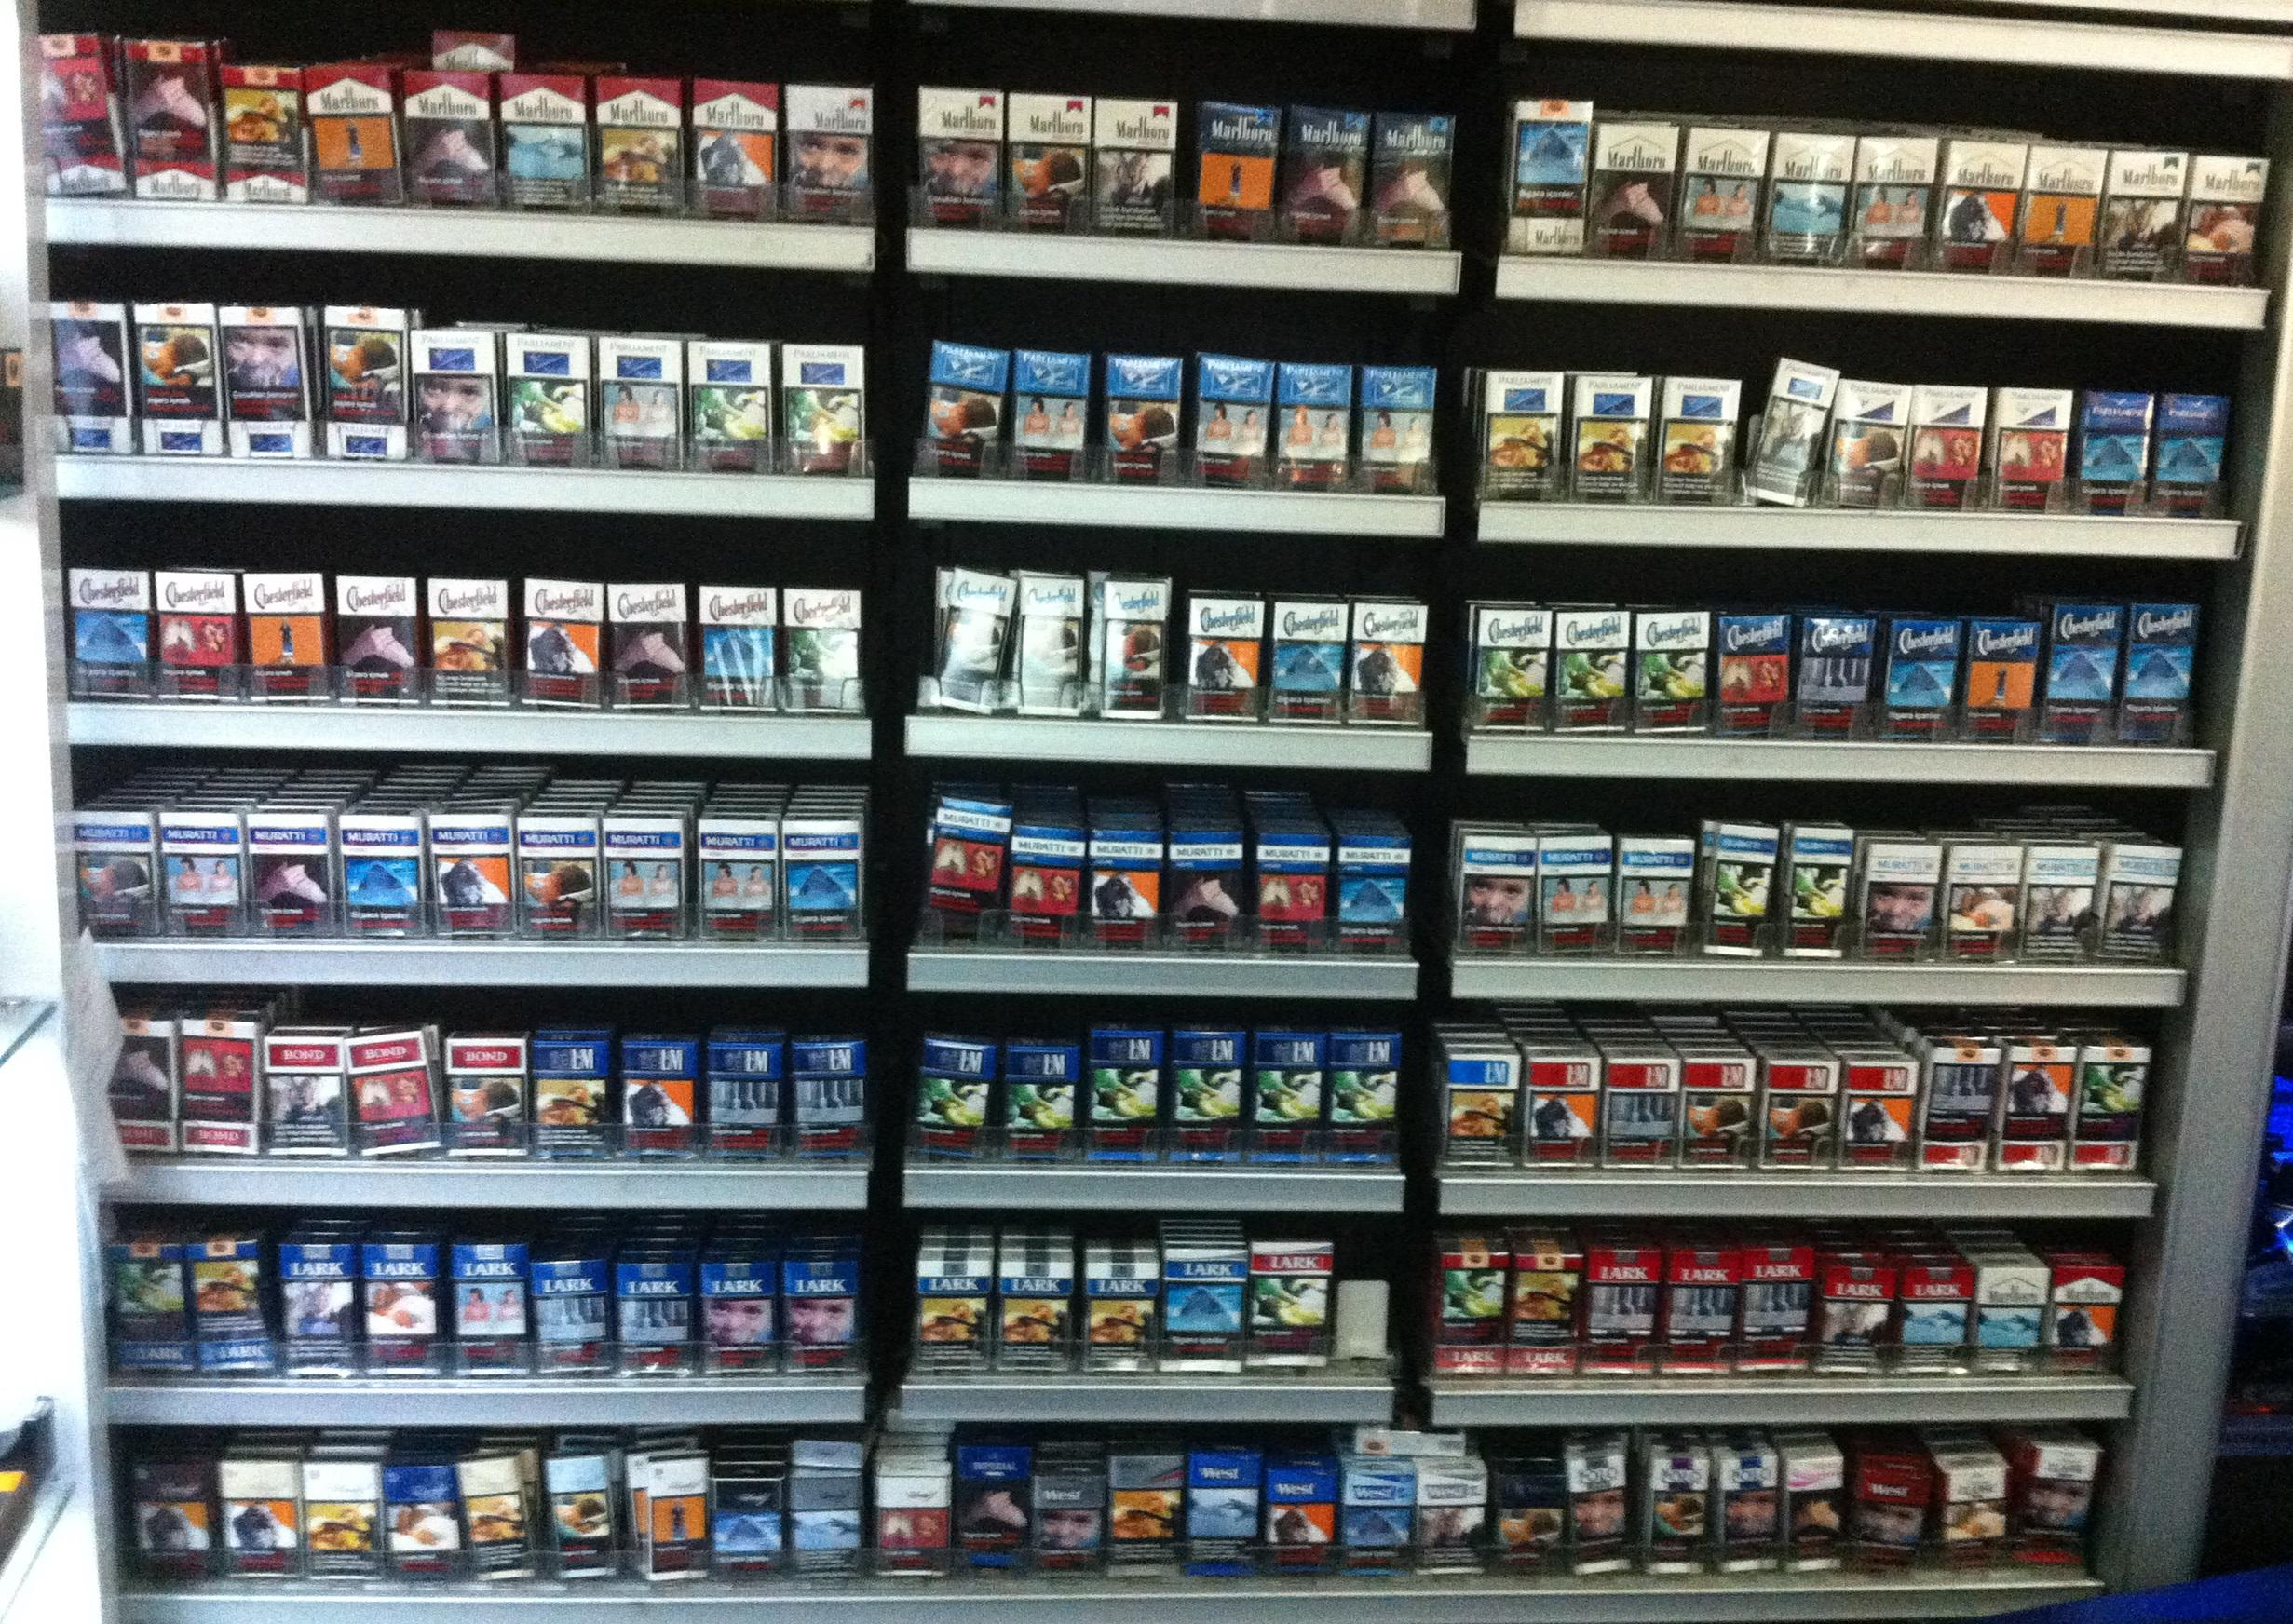product: (315, 295, 411, 471), (128, 292, 225, 466), (225, 292, 322, 466), (299, 60, 404, 216), (392, 69, 497, 225), (488, 65, 594, 221), (582, 72, 687, 228), (780, 79, 884, 236), (684, 79, 787, 236), (46, 295, 135, 471), (128, 30, 218, 202), (30, 26, 119, 199), (1502, 86, 1588, 262), (1267, 86, 1365, 239), (993, 83, 1089, 236), (1089, 90, 1186, 243), (1186, 86, 1283, 239), (239, 801, 336, 954), (329, 805, 425, 958), (415, 801, 511, 954), (504, 808, 601, 961), (594, 805, 691, 958), (684, 805, 780, 958), (768, 798, 864, 951), (910, 76, 1007, 228), (1369, 95, 1465, 246), (2008, 135, 2105, 285), (2101, 139, 2198, 288), (1465, 359, 1562, 508), (1559, 355, 1655, 504), (1648, 362, 1745, 511), (153, 559, 251, 705), (60, 559, 158, 705), (771, 578, 870, 724), (1928, 128, 2024, 276), (2170, 132, 2267, 279), (235, 559, 332, 705), (508, 575, 604, 721), (687, 575, 784, 721), (594, 329, 691, 475), (684, 325, 780, 471), (768, 336, 864, 482), (332, 571, 429, 715), (422, 571, 518, 715), (597, 571, 694, 715), (221, 49, 302, 216), (1588, 112, 1678, 262), (501, 325, 590, 475), (1841, 128, 1931, 276), (1003, 559, 1089, 712), (917, 568, 1003, 721), (1675, 116, 1762, 265), (1768, 123, 1855, 272), (339, 1028, 438, 1160), (153, 808, 246, 947), (408, 318, 497, 462), (1089, 571, 1174, 724), (1465, 589, 1552, 738), (1495, 1234, 1581, 1383), (1546, 592, 1632, 742), (1622, 592, 1708, 742), (1752, 352, 1838, 501), (1782, 592, 1868, 742), (1826, 369, 1912, 518), (1871, 601, 1957, 750), (1961, 601, 2047, 750), (2038, 585, 2124, 735), (2068, 385, 2154, 534), (255, 1028, 351, 1160), (691, 1028, 787, 1160), (777, 1025, 873, 1156), (1715, 598, 1801, 745), (1905, 378, 1991, 526), (1994, 381, 2080, 529), (2105, 598, 2191, 745), (2154, 381, 2240, 529), (172, 1007, 255, 1160), (1432, 1241, 1516, 1390), (438, 1037, 534, 1167), (515, 1033, 611, 1164), (604, 1033, 701, 1164), (206, 1446, 295, 1584), (295, 1443, 385, 1580), (378, 1450, 467, 1587), (455, 1446, 545, 1584), (538, 1450, 627, 1587), (627, 1439, 717, 1577), (1007, 336, 1093, 478), (1353, 359, 1439, 501), (921, 332, 1007, 475), (1659, 1244, 1745, 1387), (69, 808, 158, 944), (1100, 352, 1186, 492), (1193, 355, 1279, 496), (1581, 1241, 1666, 1383), (1738, 1241, 1822, 1383), (1942, 831, 2028, 970), (2091, 831, 2177, 970), (1276, 355, 1360, 496), (1696, 821, 1782, 958), (1855, 824, 1942, 961), (1908, 1033, 1994, 1171), (1978, 1040, 2065, 1178), (2012, 828, 2098, 965), (2065, 1040, 2151, 1178), (112, 1234, 195, 1376), (1771, 821, 1855, 958), (195, 1234, 276, 1376), (281, 1237, 362, 1380), (351, 1237, 432, 1380), (445, 1234, 525, 1376), (1000, 1028, 1089, 1156), (1067, 1248, 1156, 1376), (1077, 1028, 1167, 1156), (1174, 589, 1267, 712), (1256, 598, 1349, 721), (1342, 601, 1436, 724), (987, 1253, 1077, 1380), (996, 821, 1086, 947), (1074, 824, 1163, 951), (1153, 1021, 1242, 1148), (1156, 1244, 1246, 1371), (1163, 828, 1253, 954), (1246, 1237, 1335, 1364), (1249, 1025, 1339, 1151), (1320, 1025, 1409, 1151), (1323, 835, 1413, 961), (907, 1267, 996, 1394), (910, 1033, 1000, 1160), (1450, 828, 1536, 958), (1529, 828, 1615, 958), (1242, 831, 1330, 958), (780, 1446, 861, 1584), (128, 1461, 218, 1584), (1615, 828, 1699, 958), (1588, 1051, 1675, 1178), (1666, 1051, 1752, 1178), (1745, 1055, 1831, 1181), (1838, 1051, 1924, 1178), (924, 794, 1010, 921), (1432, 1037, 1516, 1164), (1522, 1040, 1606, 1167), (947, 1443, 1033, 1566), (1021, 1457, 1107, 1580), (1096, 1450, 1183, 1573), (1186, 1446, 1272, 1570), (1256, 1461, 1342, 1584), (1327, 1457, 1413, 1580), (1402, 1454, 1488, 1577), (1479, 1454, 1566, 1577), (1559, 1446, 1645, 1570), (1629, 1450, 1715, 1573), (1841, 1454, 1928, 1577), (1931, 1446, 2017, 1570), (1961, 1253, 2047, 1376), (2008, 1431, 2094, 1554), (2038, 1253, 2124, 1376), (1822, 1253, 1908, 1376), (1894, 1253, 1978, 1376), (708, 1439, 784, 1577), (518, 1260, 601, 1380), (768, 1248, 850, 1367), (604, 1253, 687, 1371), (691, 1253, 771, 1371), (116, 1014, 183, 1151), (1711, 1454, 1785, 1577), (1771, 1450, 1845, 1573), (873, 1473, 958, 1580)
